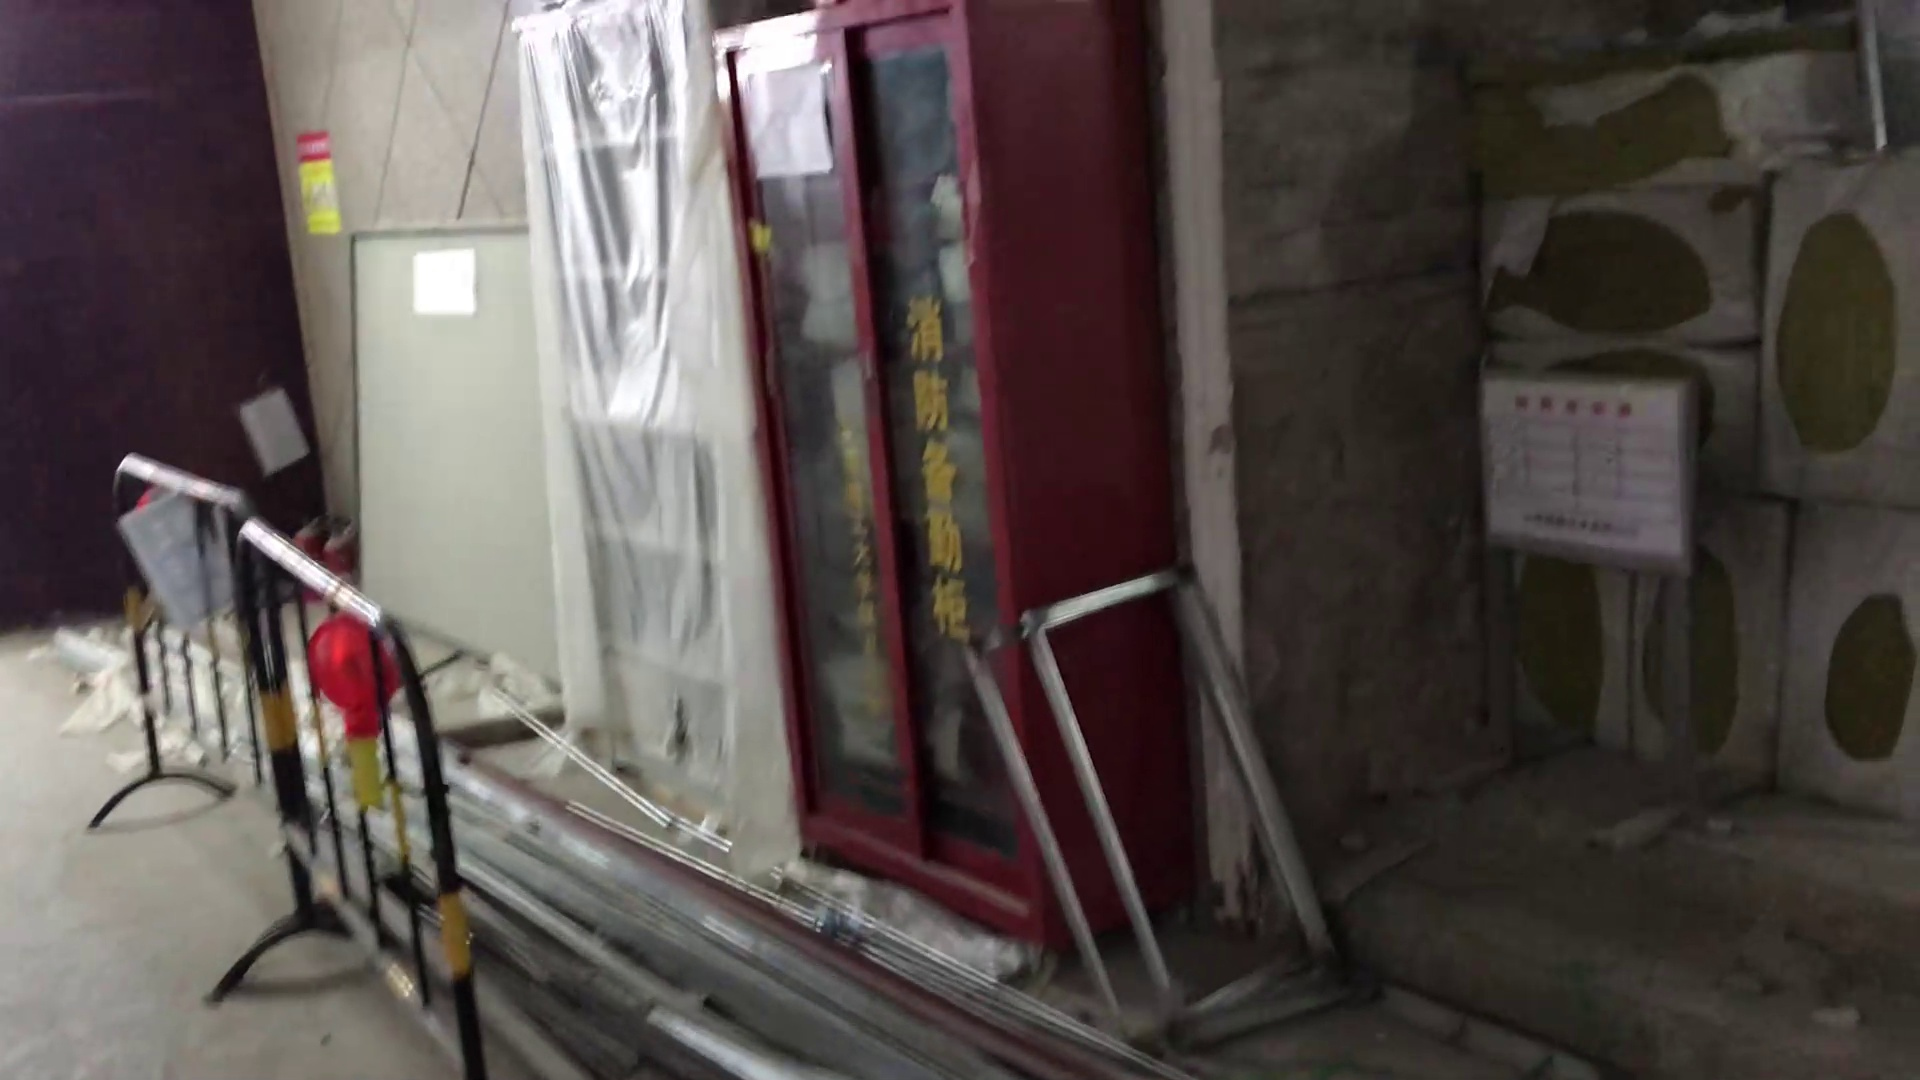fence: (50, 430, 496, 1080)
slogan: (287, 138, 352, 247)
